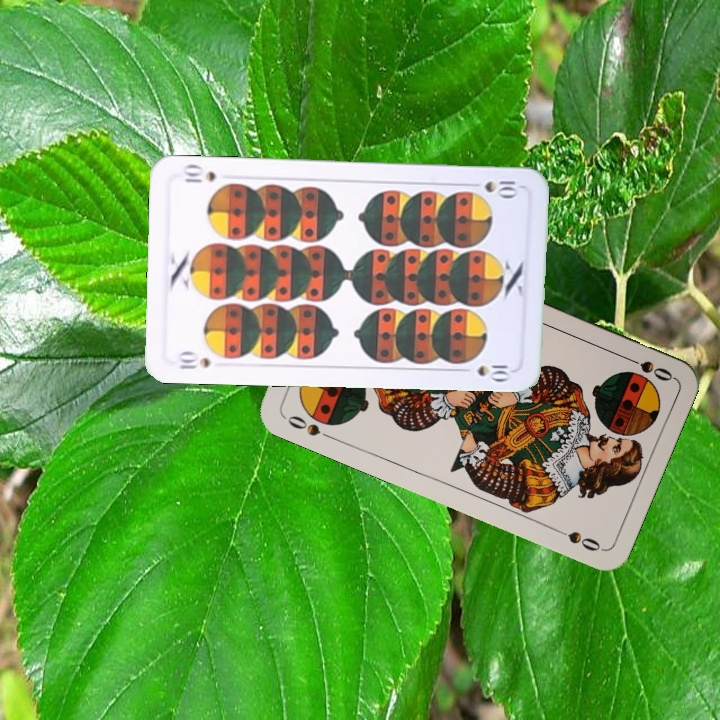S10: (464, 177, 521, 198), (174, 348, 213, 372)
SO: (619, 351, 676, 384), (280, 411, 336, 442)
